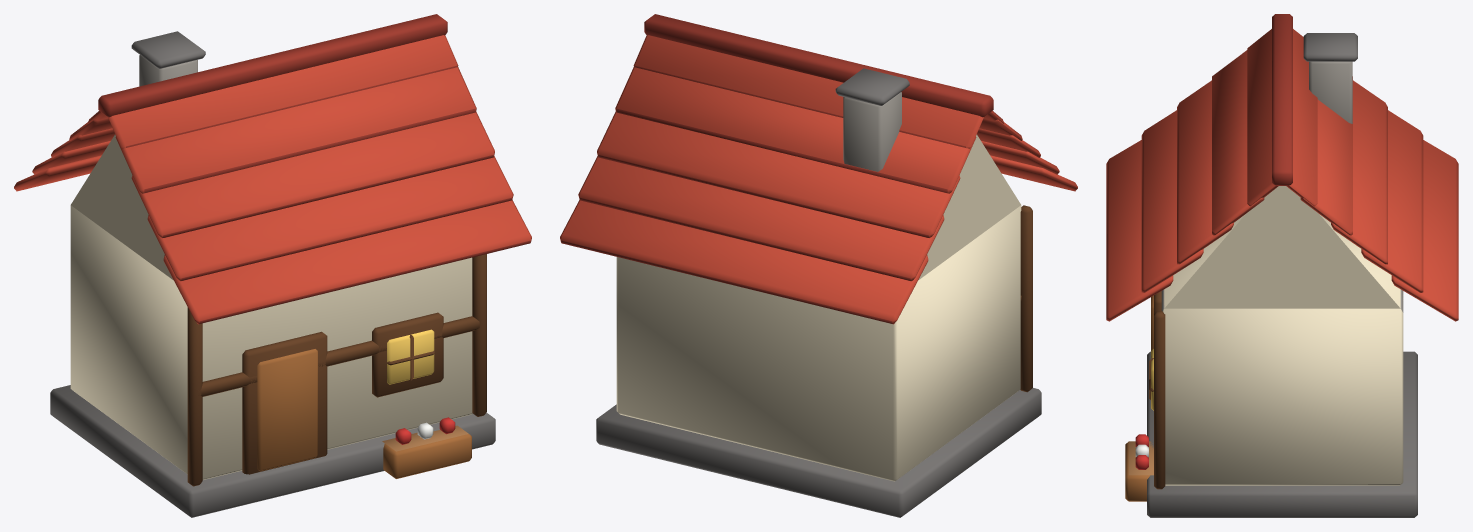
Rendered from B_MedCottageRed.fbx.
The picture shows the model from 3 angles, left to right: view 1: azimuth 30°, elevation 25°; view 2: azimuth 150°, elevation 25°; view 3: azimuth 270°, elevation 25°; orthographic projection. The views are drawn at different scales.
Visible parts, largest first — view 1: M_CottageRed; view 2: M_CottageRed; view 3: M_CottageRed.
Part boxes in pixels (x1=…): M_CottageRed: x1=14, y1=14, x2=531, y2=517; M_CottageRed: x1=560, y1=14, x2=1077, y2=517; M_CottageRed: x1=1106, y1=14, x2=1458, y2=517.
Size of the model in its own units: 3.89 by 4.2 by 3.64.
Materials: 1 (1 with a texture image).
